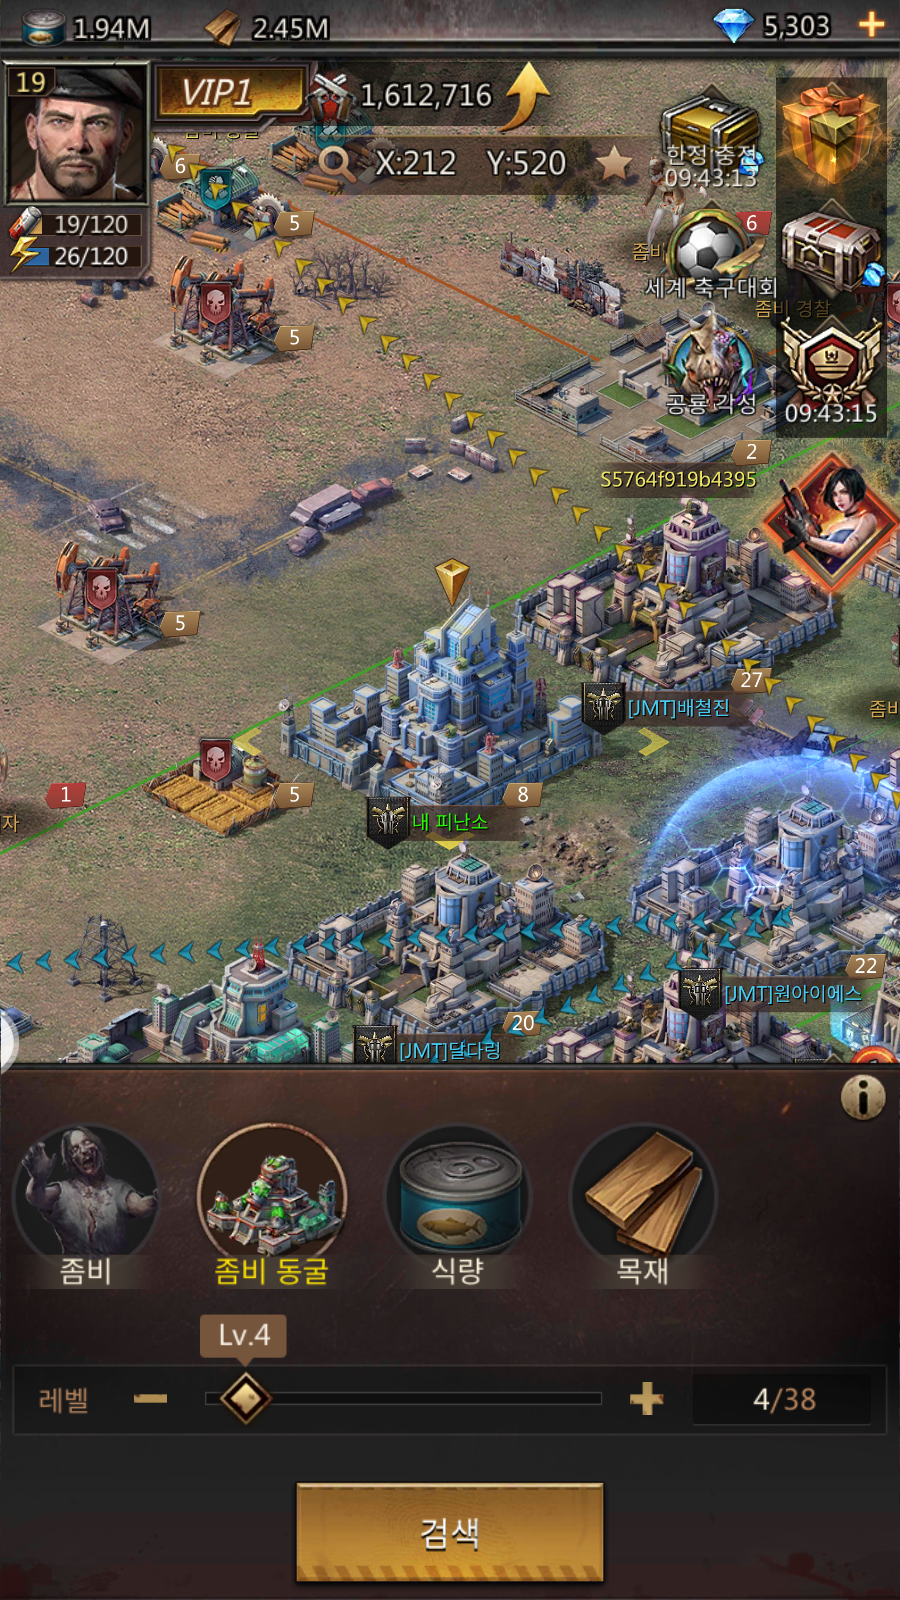rss_food_in_panel: (381, 1119, 537, 1295)
rss_lv4: (195, 1315, 290, 1359)
rss_minus_in_panel: (125, 1376, 175, 1424)
rss_plus_in_panel: (622, 1374, 670, 1419)
rss_search_in_panel: (298, 1486, 605, 1581)
rss_wood_in_panel: (575, 1122, 717, 1300)
